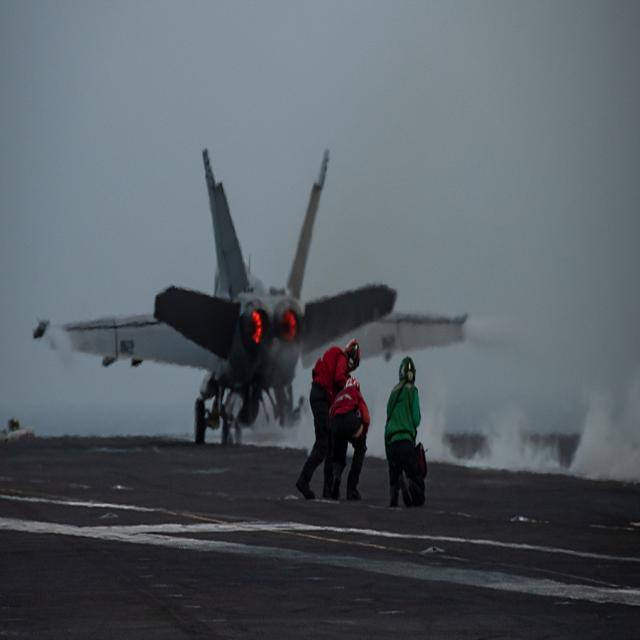MIL_Plane: (32, 148, 469, 445)
